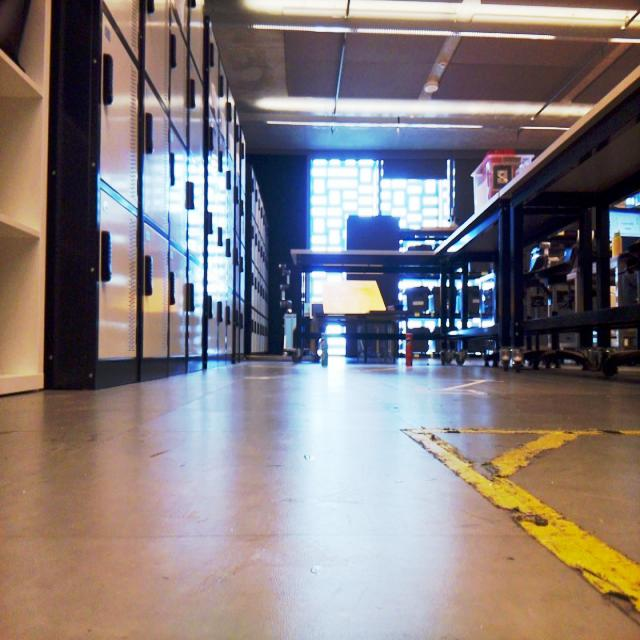greenpringles: (314, 327, 335, 368)
redpringles: (400, 325, 425, 374)
